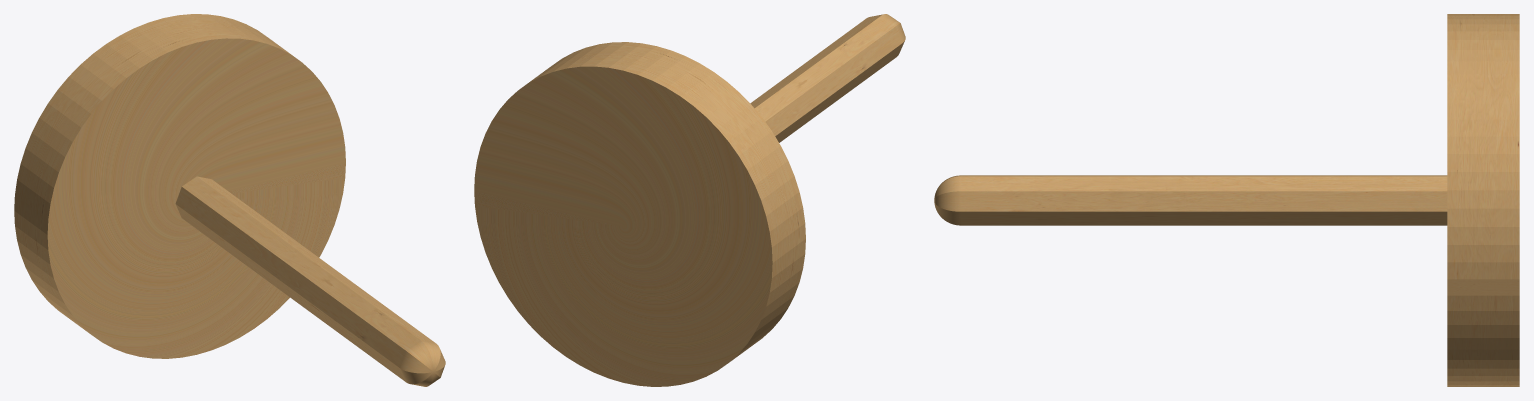
Rendered from base_pole.glb.
The picture shows the model from 3 angles, left to right: view 1: azimuth 30°, elevation 25°; view 2: azimuth 150°, elevation 25°; view 3: azimuth 270°, elevation 25°; orthographic projection. The views are drawn at different scales.
Visible parts, largest first — view 1: base, pole; view 2: base, pole; view 3: base, pole.
Part boxes in pixels (x1,y1,x2,y2): base: (14, 14, 345, 358); pole: (175, 176, 445, 386); base: (474, 42, 805, 386); pole: (750, 14, 905, 142); base: (1447, 14, 1519, 386); pole: (934, 175, 1447, 225).
Size of the model in its own units: 0.105 by 0.105 by 0.1646.
1 material, 1 textured.
